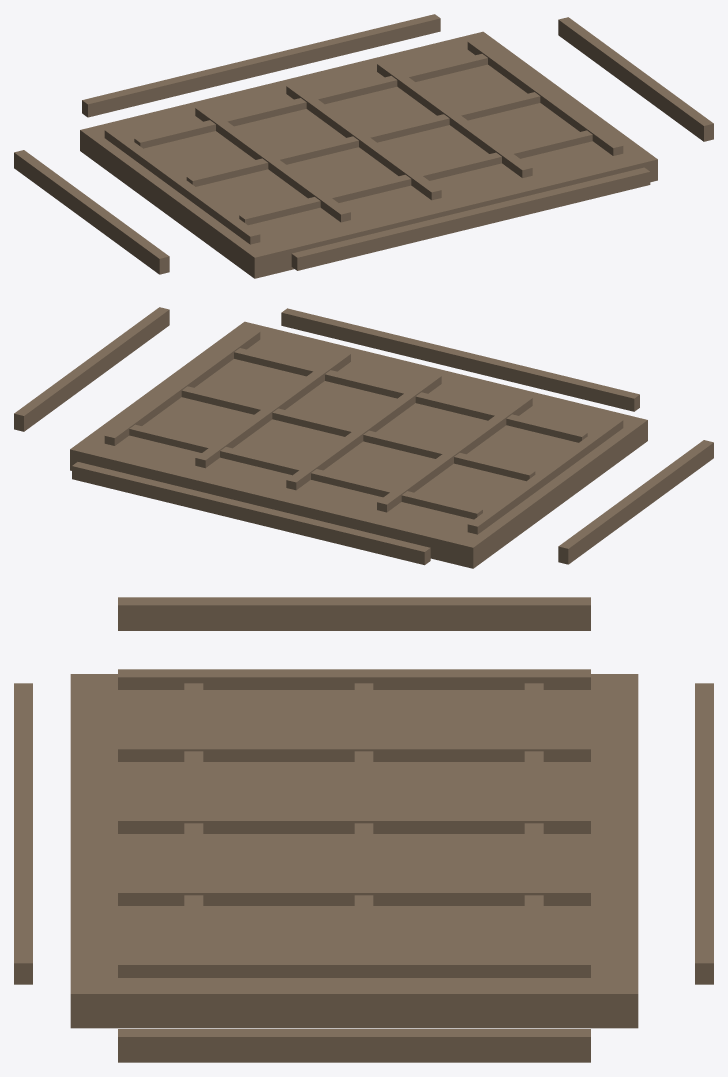
File: SewerGrate.fbx
3 views of the same model, one above another, from view 1: azimuth 30°, elevation 25°; view 2: azimuth 150°, elevation 25°; view 3: azimuth 270°, elevation 25° (orthographic). The views are drawn at different scales.
Parts seen in each view (by area): view 1: SewerGrate_Frame, SewerGrate_CrossBar_0, SewerGrate_CrossBar_4, SewerGrate_CrossBar_2, SewerGrate_CrossBar_1, SewerGrate_CrossBar_3, SewerGrate_Bar_0, SewerGrate_Bar_6, SewerGrate_Bar_1, SewerGrate_Bar_5, SewerGrate_Bar_4, SewerGrate_Bar_3 (+1 smaller); view 2: SewerGrate_Frame, SewerGrate_CrossBar_0, SewerGrate_CrossBar_4, SewerGrate_CrossBar_2, SewerGrate_CrossBar_1, SewerGrate_CrossBar_3, SewerGrate_Bar_0, SewerGrate_Bar_6, SewerGrate_Bar_1, SewerGrate_Bar_5, SewerGrate_Bar_2, SewerGrate_Bar_3 (+1 smaller); view 3: SewerGrate_Frame, SewerGrate_Bar_0, SewerGrate_Bar_6, SewerGrate_Bar_5, SewerGrate_Bar_1, SewerGrate_Bar_2, SewerGrate_Bar_3, SewerGrate_Bar_4, SewerGrate_CrossBar_0, SewerGrate_CrossBar_4, SewerGrate_CrossBar_1, SewerGrate_CrossBar_3 (+1 smaller).
Boxes of the visible parts, left/top/right/bottom form: SewerGrate_Frame: left=80, top=31, right=657, bottom=278; SewerGrate_CrossBar_0: left=291, top=167, right=650, bottom=270; SewerGrate_CrossBar_4: left=82, top=14, right=440, bottom=117; SewerGrate_CrossBar_2: left=186, top=92, right=540, bottom=186; SewerGrate_CrossBar_1: left=239, top=130, right=592, bottom=225; SewerGrate_CrossBar_3: left=134, top=54, right=487, bottom=148; SewerGrate_Bar_0: left=14, top=150, right=169, bottom=274; SewerGrate_Bar_6: left=558, top=17, right=713, bottom=141; SewerGrate_Bar_1: left=104, top=128, right=260, bottom=244; SewerGrate_Bar_5: left=467, top=39, right=623, bottom=155; SewerGrate_Bar_4: left=377, top=61, right=532, bottom=178; SewerGrate_Bar_3: left=286, top=83, right=441, bottom=200; SewerGrate_Frame: left=70, top=321, right=647, bottom=568; SewerGrate_CrossBar_0: left=281, top=308, right=639, bottom=411; SewerGrate_CrossBar_4: left=72, top=462, right=430, bottom=565; SewerGrate_CrossBar_2: left=181, top=386, right=535, bottom=481; SewerGrate_CrossBar_1: left=234, top=348, right=587, bottom=442; SewerGrate_CrossBar_3: left=129, top=424, right=482, bottom=519; SewerGrate_Bar_0: left=558, top=440, right=713, bottom=564; SewerGrate_Bar_6: left=14, top=307, right=169, bottom=431; SewerGrate_Bar_1: left=467, top=418, right=623, bottom=534; SewerGrate_Bar_5: left=104, top=329, right=260, bottom=445; SewerGrate_Bar_2: left=377, top=395, right=532, bottom=512; SewerGrate_Bar_3: left=286, top=373, right=441, bottom=490; SewerGrate_Frame: left=70, top=674, right=638, bottom=1028; SewerGrate_Bar_0: left=118, top=597, right=590, bottom=630; SewerGrate_Bar_6: left=118, top=1029, right=590, bottom=1062; SewerGrate_Bar_5: left=118, top=957, right=590, bottom=977; SewerGrate_Bar_1: left=118, top=669, right=590, bottom=689; SewerGrate_Bar_2: left=118, top=741, right=590, bottom=761; SewerGrate_Bar_3: left=118, top=813, right=590, bottom=833; SewerGrate_Bar_4: left=118, top=885, right=590, bottom=905; SewerGrate_CrossBar_0: left=14, top=683, right=32, bottom=984; SewerGrate_CrossBar_4: left=695, top=683, right=713, bottom=984; SewerGrate_CrossBar_1: left=184, top=683, right=203, bottom=956; SewerGrate_CrossBar_3: left=524, top=683, right=543, bottom=956.
Bounding box in the file's own units: 1.1 × 0.055 × 0.74.
